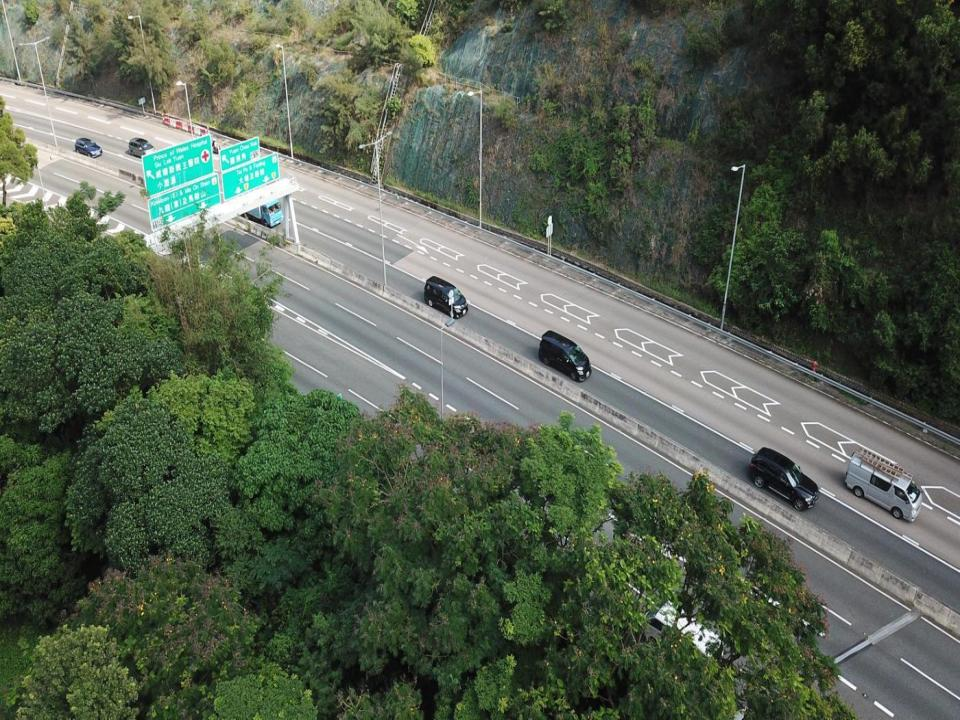car: (750, 446, 820, 512), (538, 329, 592, 382), (423, 275, 469, 319), (128, 136, 157, 160), (75, 137, 102, 158)
truck: (225, 184, 284, 228)
van: (636, 598, 726, 688), (843, 450, 923, 523)
